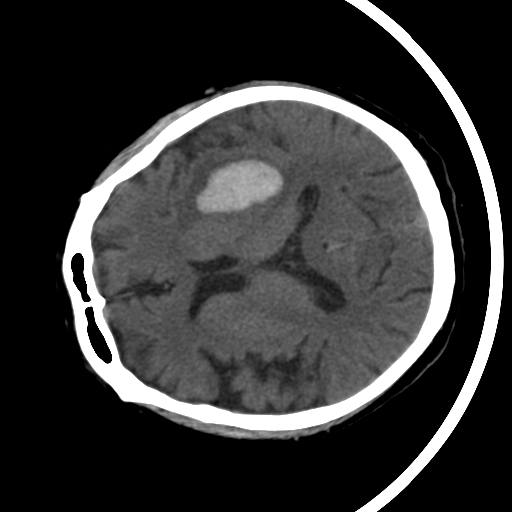a: (161, 139, 302, 244)
